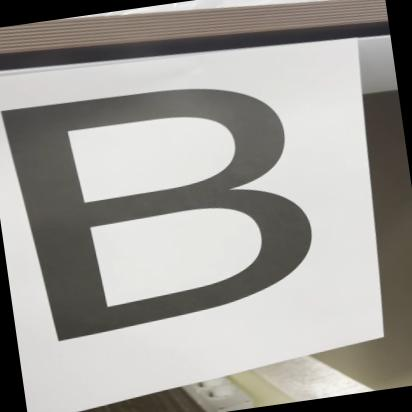seat: (0, 51, 343, 355)
